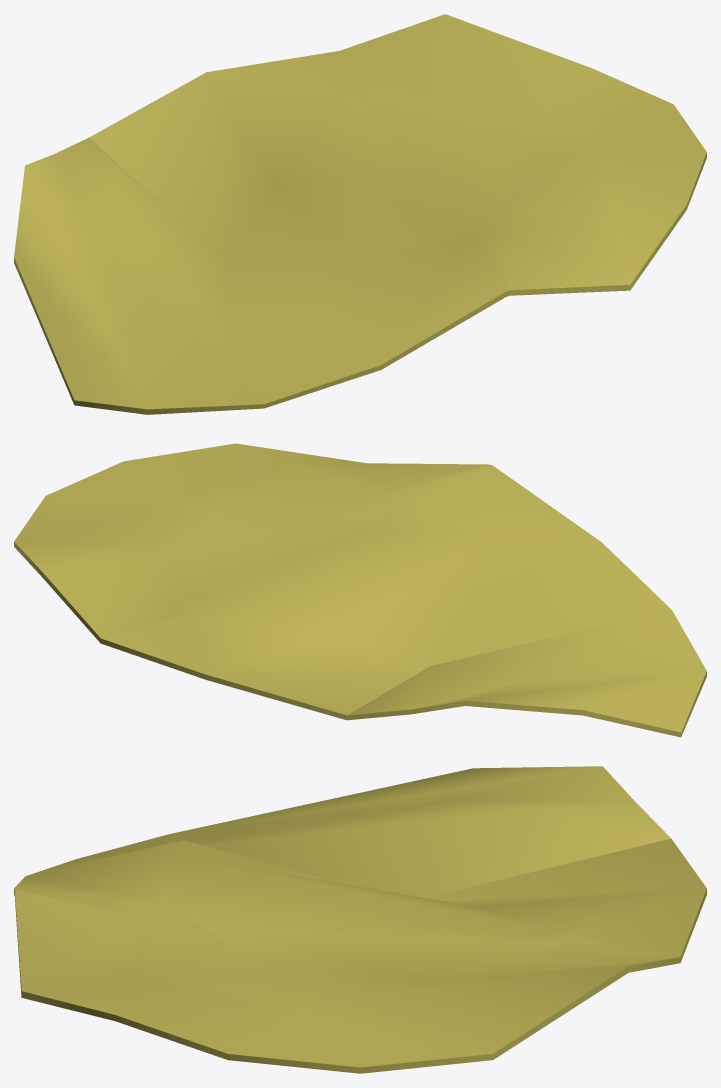
Rendered from chipsPS.fbx.
3 renders of one model, top to bottom at view 1: azimuth 30°, elevation 25°; view 2: azimuth 150°, elevation 25°; view 3: azimuth 270°, elevation 25°, orthographic. The views are drawn at different scales.
Parts seen in each view (by area): view 1: Circle; view 2: Circle; view 3: Circle.
Part boxes in pixels (bbox=[...]): Circle: bbox=[14, 14, 706, 414]; Circle: bbox=[14, 443, 706, 737]; Circle: bbox=[14, 766, 706, 1073].
Bounding box in the file's own units: 244 × 57.27 × 200.
